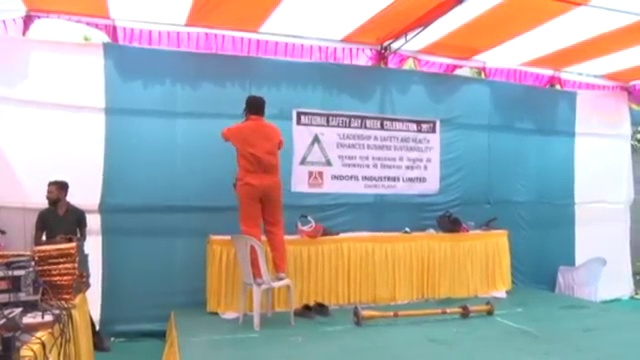helmet_off: (44, 181, 70, 207), (244, 94, 268, 119)
person: (216, 92, 289, 279), (29, 180, 90, 248)
